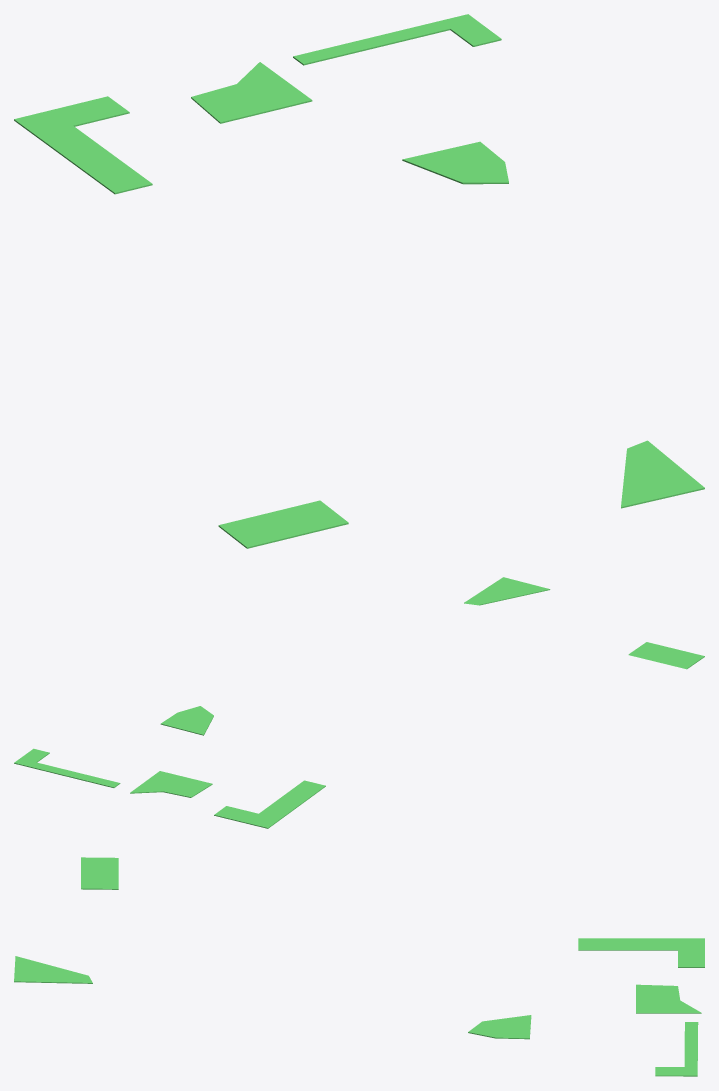
The model's file is parks.fbx.
The picture shows the model from 3 angles, top to bottom: view 1: azimuth 30°, elevation 25°; view 2: azimuth 150°, elevation 25°; view 3: azimuth 270°, elevation 25°; orthographic projection. The views are drawn at different scales.
Visible parts, largest first — view 1: Park_Solid; view 2: Park_Solid; view 3: Park_Solid.
Boxes of the visible parts, x1,y1,x2,y2 form: Park_Solid: [14, 14, 704, 548]; Park_Solid: [14, 577, 704, 828]; Park_Solid: [14, 857, 704, 1076].
Size of the model in its own units: 33438 by 64.01 by 44750.
